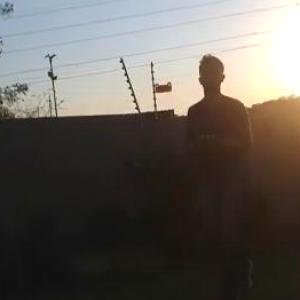follow: (180, 47, 261, 299)
